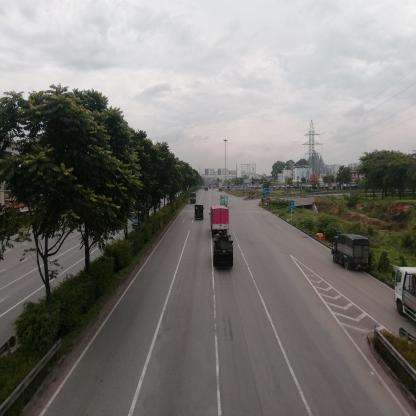truck: (334, 234, 369, 271), (396, 269, 416, 324), (214, 236, 234, 268), (212, 208, 231, 230), (196, 206, 204, 221), (221, 196, 228, 204), (191, 193, 196, 204)
